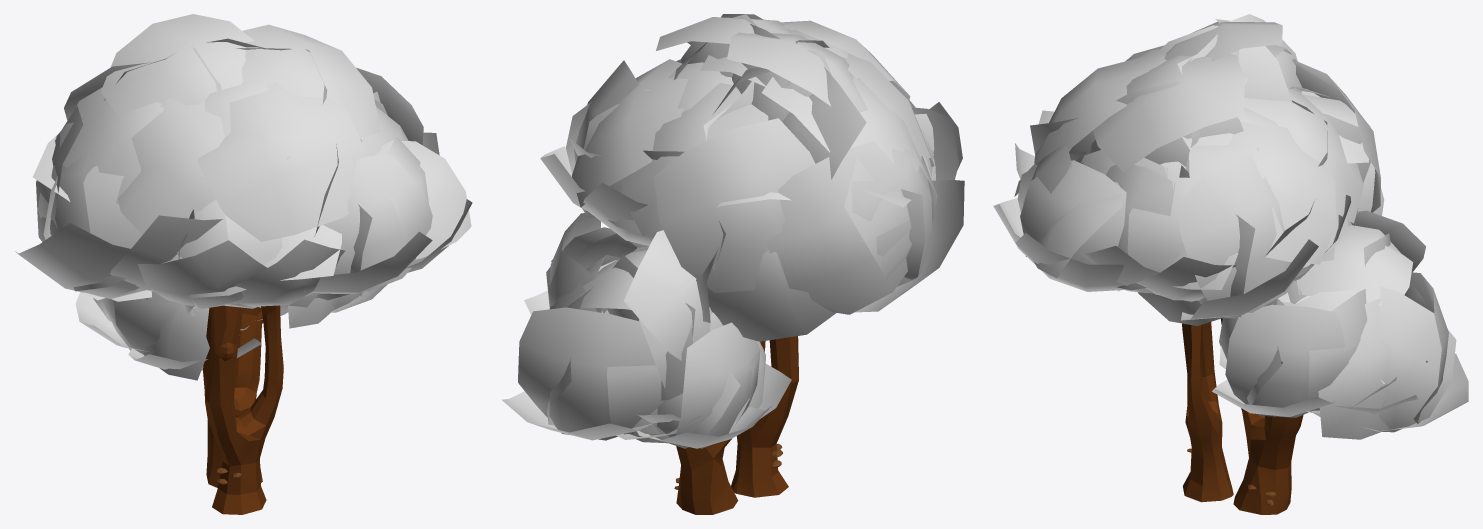
The model's file is MF_Doubletree_Leaves.FBX.
The picture shows the model from 3 angles, left to right: view 1: azimuth 30°, elevation 25°; view 2: azimuth 150°, elevation 25°; view 3: azimuth 270°, elevation 25°; orthographic projection. The views are drawn at different scales.
Visible parts, largest first — view 1: Doubletree_Leaves_Leaves, Doubletree_Leaves; view 2: Doubletree_Leaves_Leaves, Doubletree_Leaves; view 3: Doubletree_Leaves_Leaves, Doubletree_Leaves.
Part boxes in pixels (x1,y1,x2,y2): Doubletree_Leaves_Leaves: (15, 14, 472, 380); Doubletree_Leaves: (203, 305, 283, 514); Doubletree_Leaves_Leaves: (501, 14, 964, 448); Doubletree_Leaves: (674, 336, 798, 514); Doubletree_Leaves_Leaves: (993, 14, 1468, 439); Doubletree_Leaves: (1182, 318, 1427, 514).
Size of the model in its own units: 10.77 by 11.51 by 12.01.
